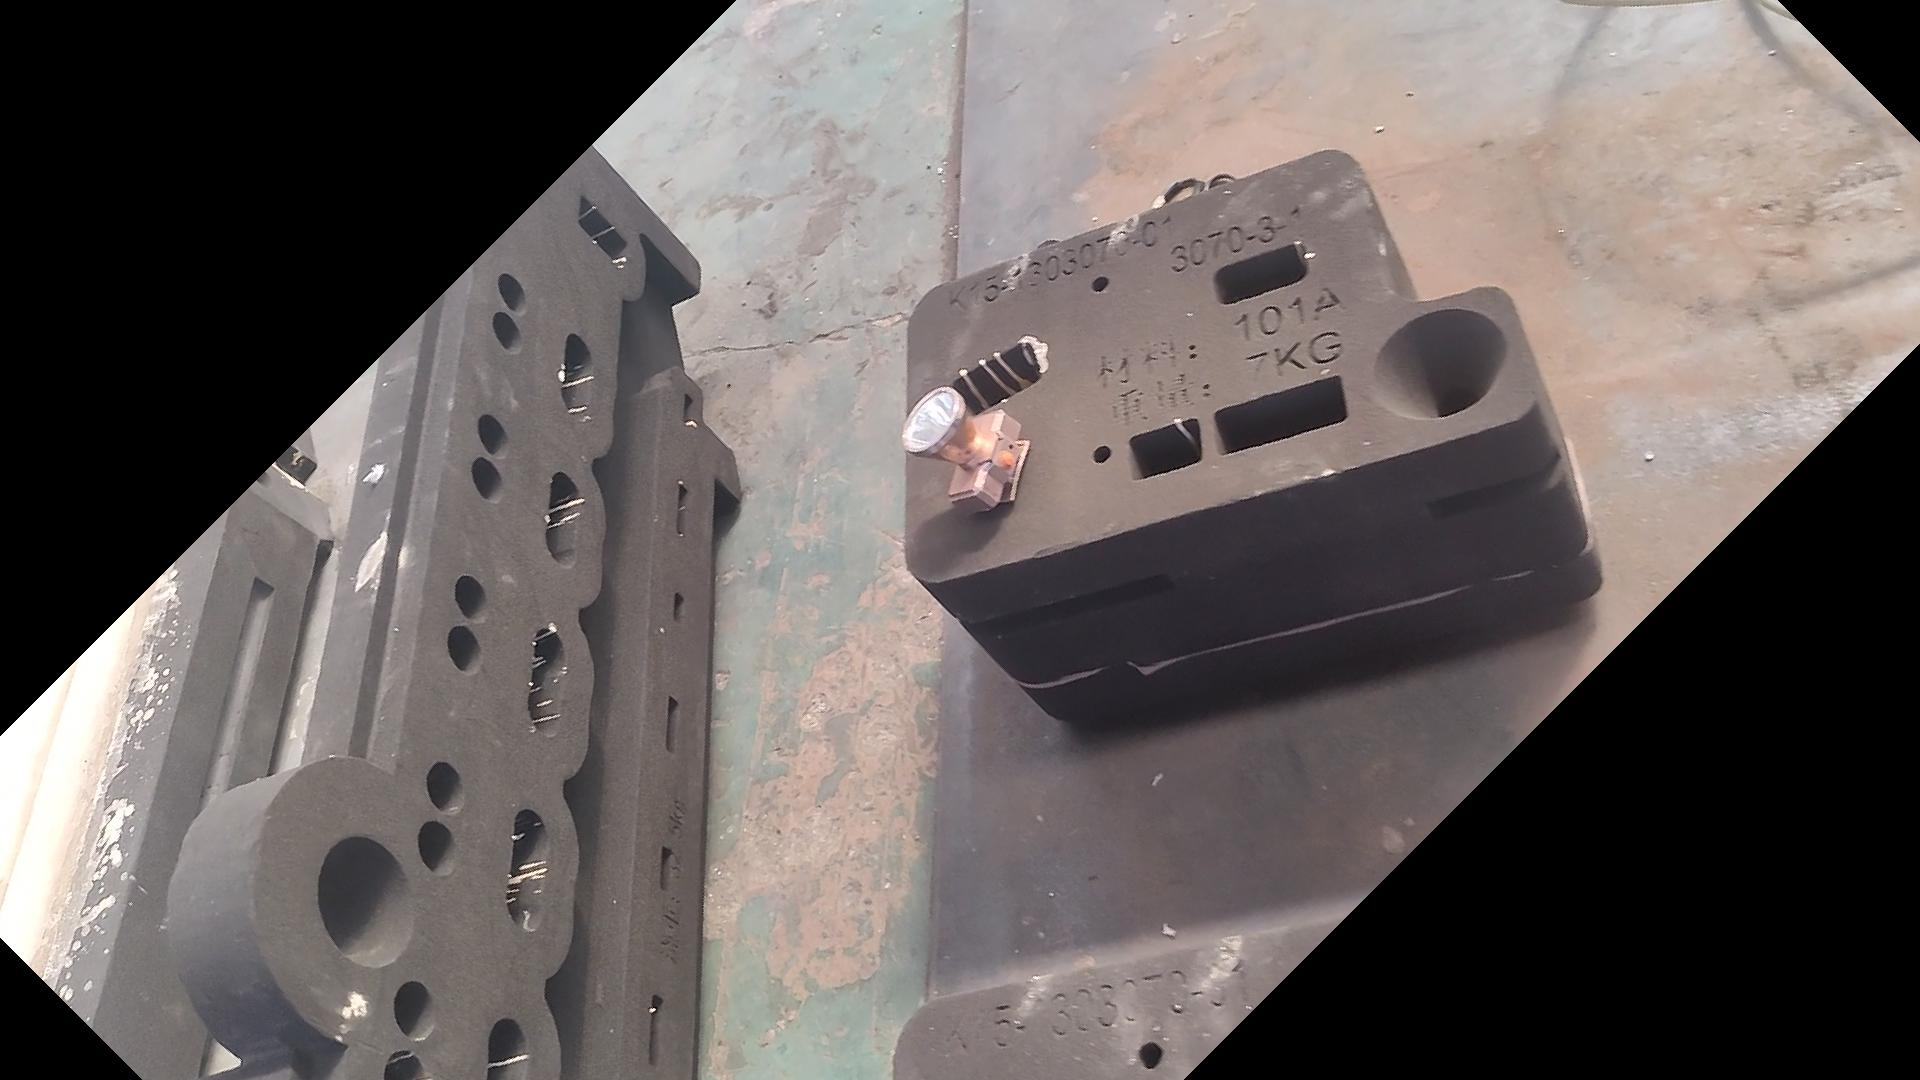pouring hole: (1367, 306, 1509, 418), (318, 835, 414, 971)
